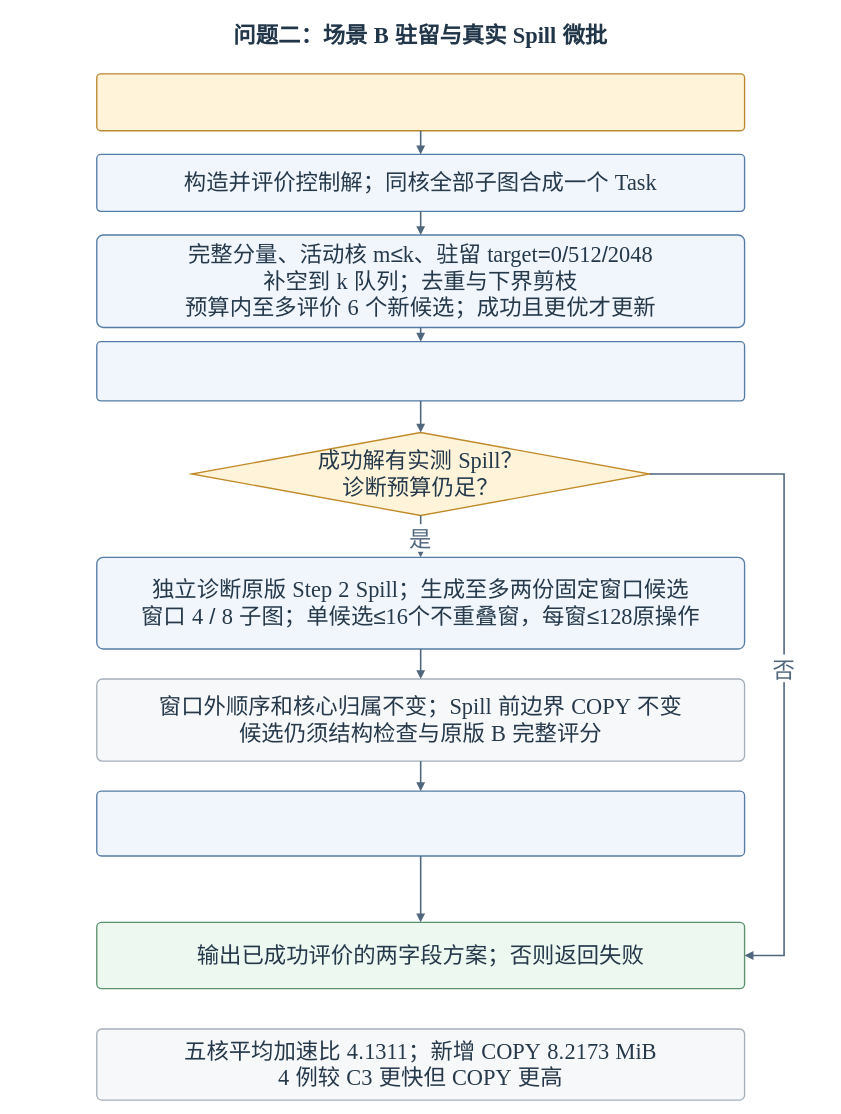
Image size: 841x1114. Some labels were removed from this diagram. The centre of each missing label's shape, as x and y in pixels:
原始图、固定 B 配置、核数 k = 1 – 5 、单请求总软预算: point (420, 102)
完整成功且 ( Makespan , 新增 COPY , 名称) 更优才更新 失败或未改进则保留当前解和状态记录: point (420, 823)
快速插入候选：受剩余预算约束，完整成功且更优才更新: point (420, 371)
